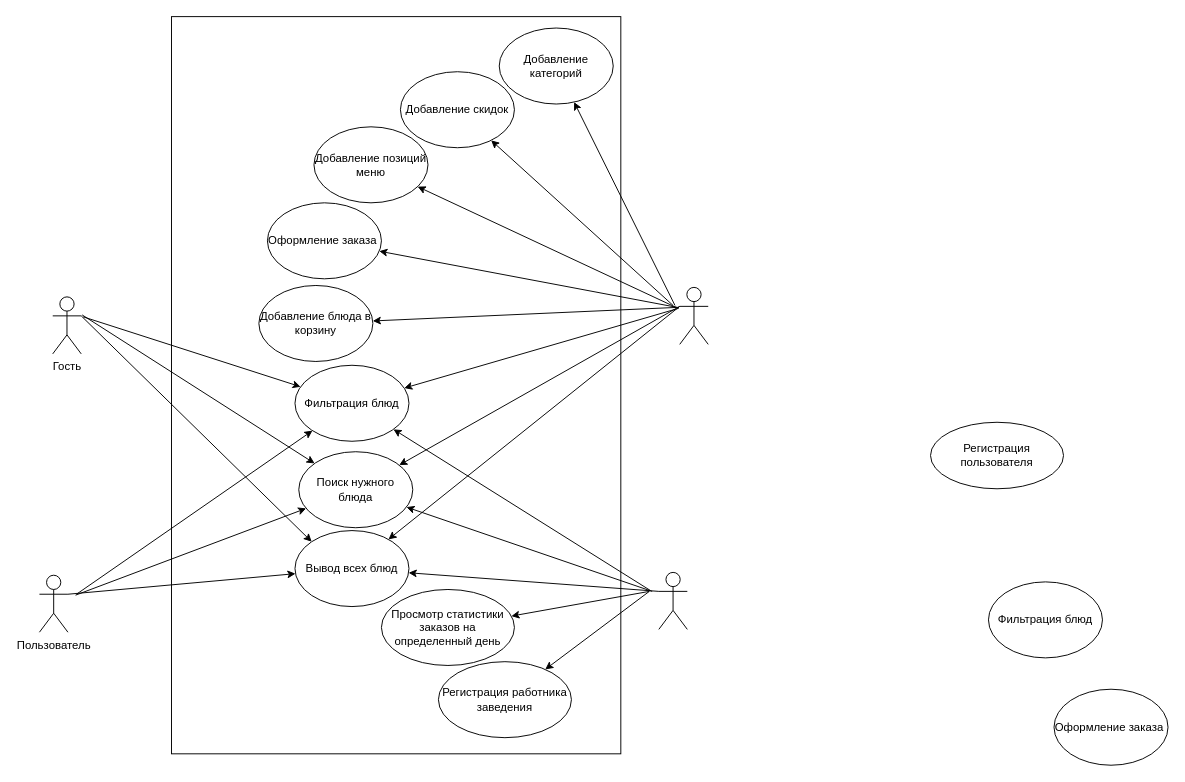
The diagram is 1185 pixels wide and 782 high, and some of its shapes have lost their labels. The box of each missing label's shape, as (x1, y1, x2, y2) in pixels:
Работник заведения: (679, 286, 708, 344)
Управляющий: (658, 571, 687, 629)
